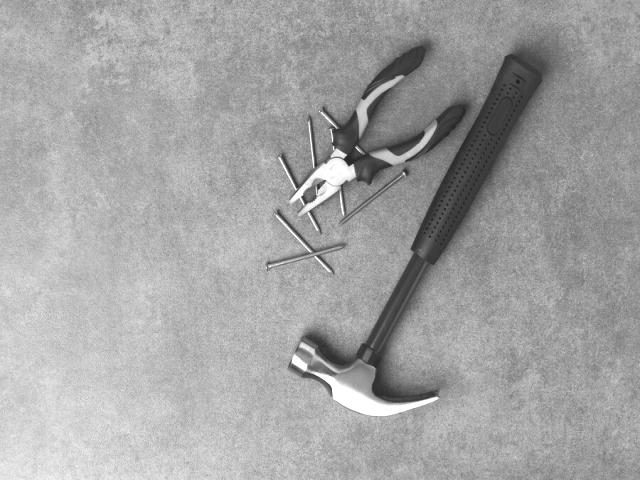Hammer: (289, 56, 541, 415)
Pliers: (290, 48, 465, 216)
